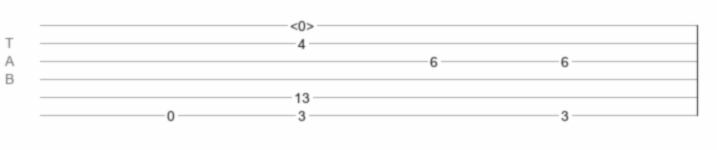0: (167, 108, 175, 118)
13: (294, 90, 310, 100)
3: (298, 108, 306, 118), (561, 108, 569, 118)
4: (298, 36, 306, 46)
6: (430, 54, 438, 64), (561, 54, 569, 64)
harmonic: (290, 18, 314, 28)
